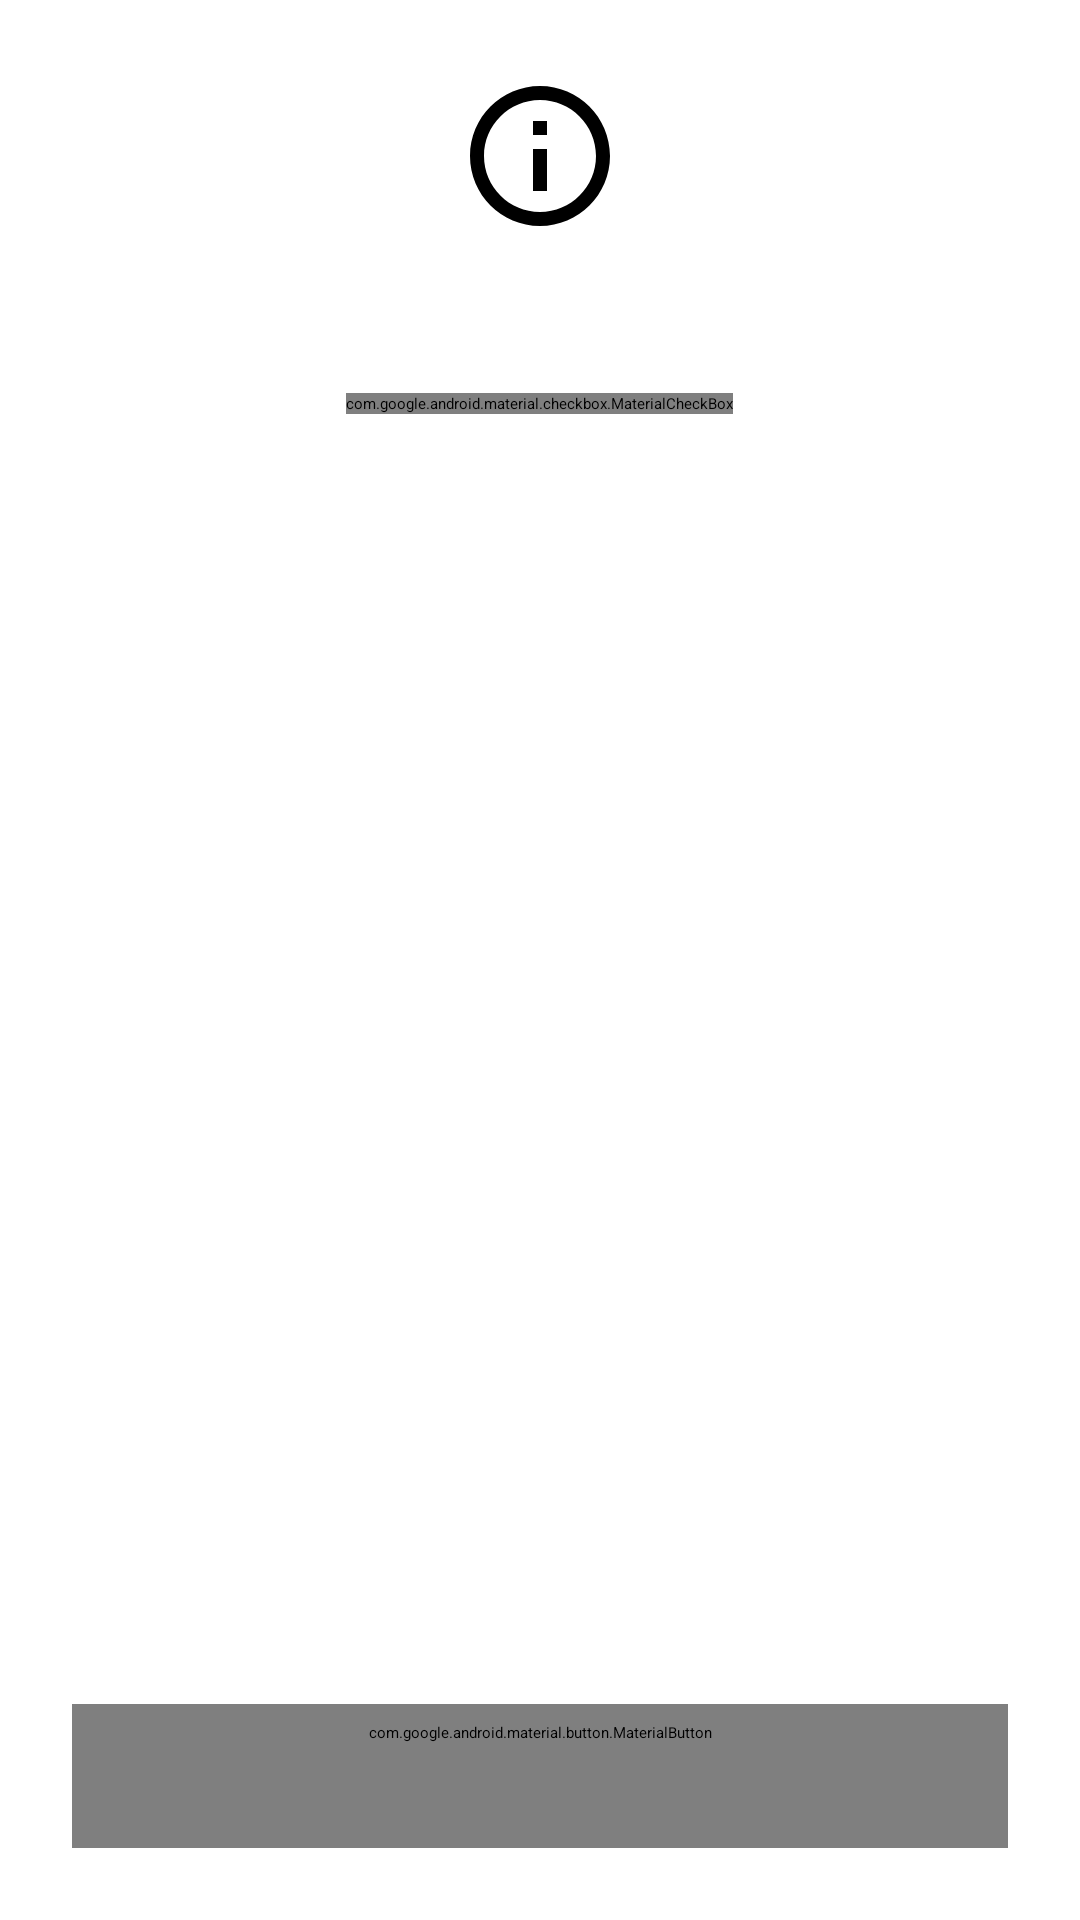

Named icons in this screenshot (1080x1920) and their centers, (x,y):
info: (540,156)
